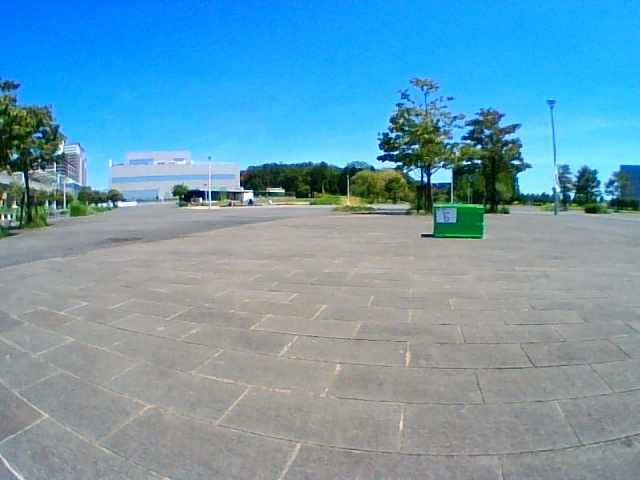green_box: (435, 204, 483, 238)
tag: (436, 208, 456, 222)
